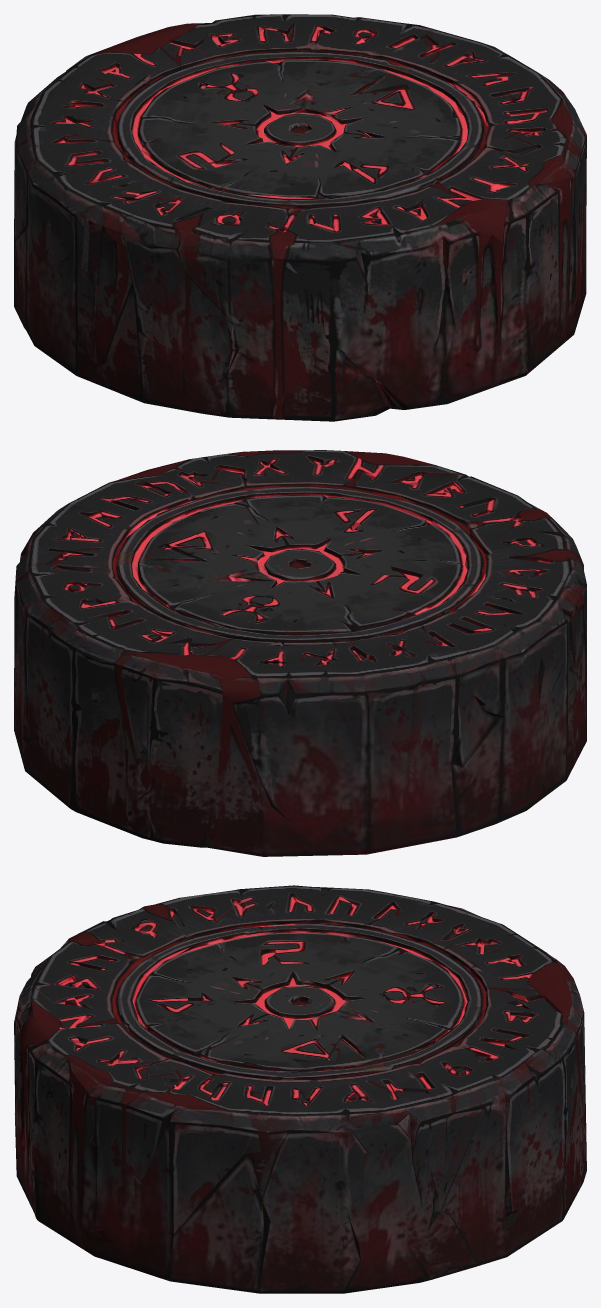
File: prop-altar.glb
3 renders of one model, top to bottom at view 1: azimuth 30°, elevation 25°; view 2: azimuth 150°, elevation 25°; view 3: azimuth 270°, elevation 25°, orthographic.
Size of the model in its own units: 1.89 by 0.6483 by 1.9.
Materials: 1 (1 with a texture image).
